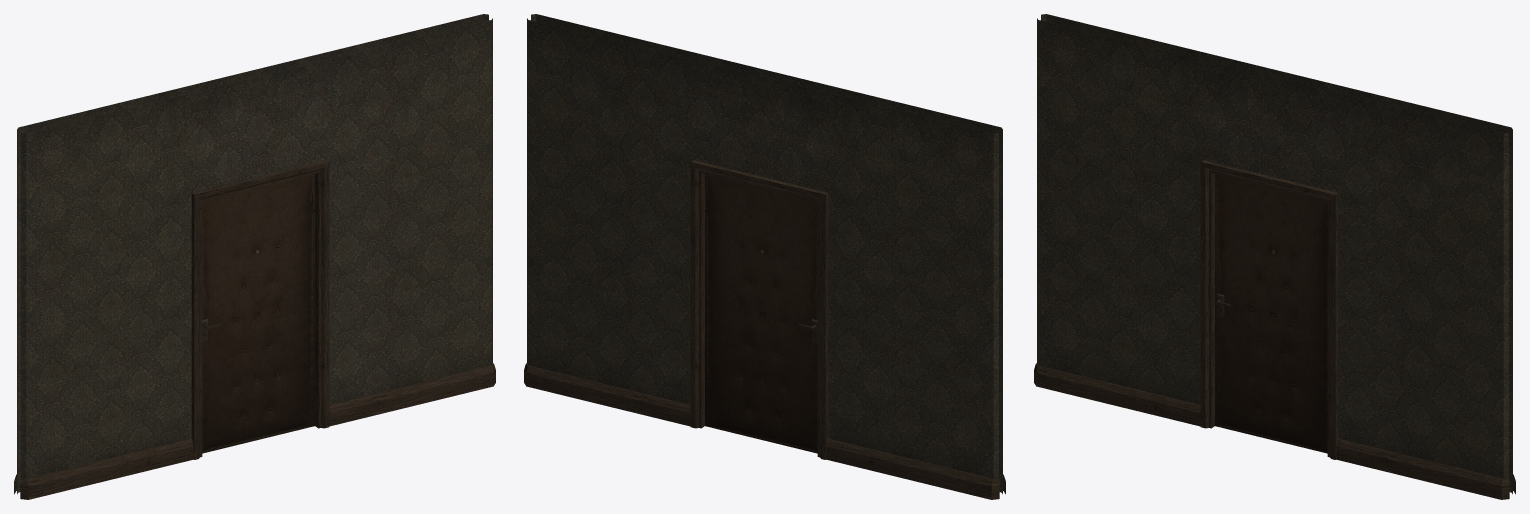
File: doorway_door_mp_1.obj
3 views of the same model, side by side, from view 1: azimuth 30°, elevation 25°; view 2: azimuth 150°, elevation 25°; view 3: azimuth 330°, elevation 25° (orthographic).
Parts seen in each view (by area): view 1: doorway_door_mp_1, door_mp_1; view 2: doorway_door_mp_1, door_mp_1; view 3: doorway_door_mp_1, door_mp_1.
Part boxes in pixels (x1,y1,x2,y2): doorway_door_mp_1: (14, 14, 495, 499); door_mp_1: (202, 174, 314, 453); doorway_door_mp_1: (524, 14, 1005, 499); door_mp_1: (705, 174, 817, 453); doorway_door_mp_1: (1034, 14, 1515, 499); door_mp_1: (1215, 174, 1327, 453).
Size of the model in its own units: 4.09 by 3 by 0.2.
